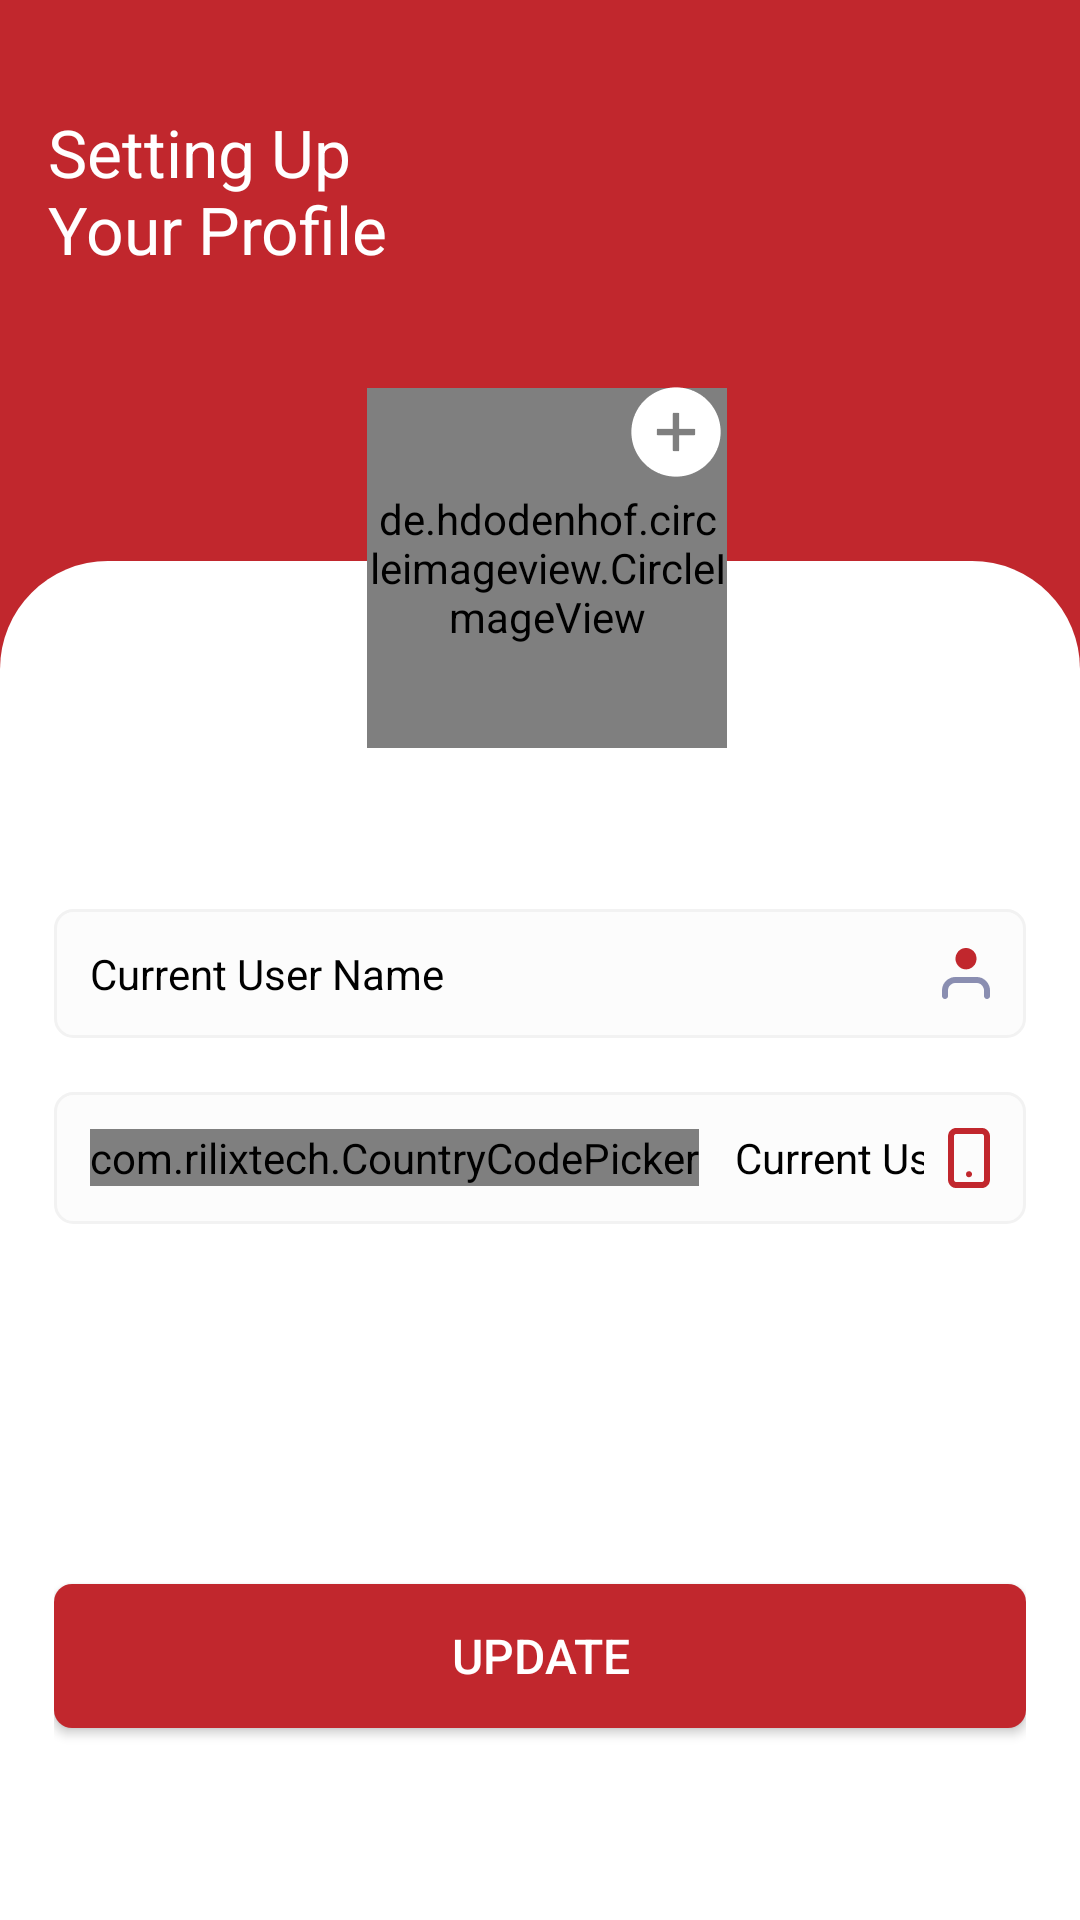

Named icons in this screenshot (1080px×1920px) and their centers, (x=x, y=y):
circle add: (x=676, y=432)
